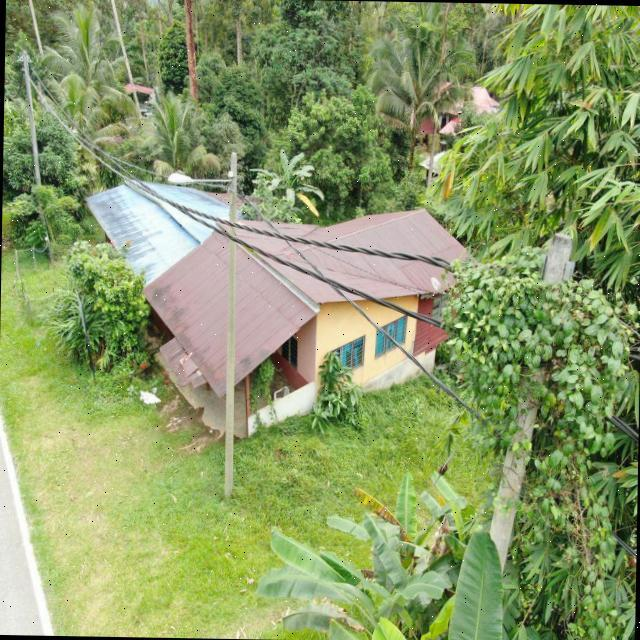critical vegetation: (431, 245, 632, 444)
